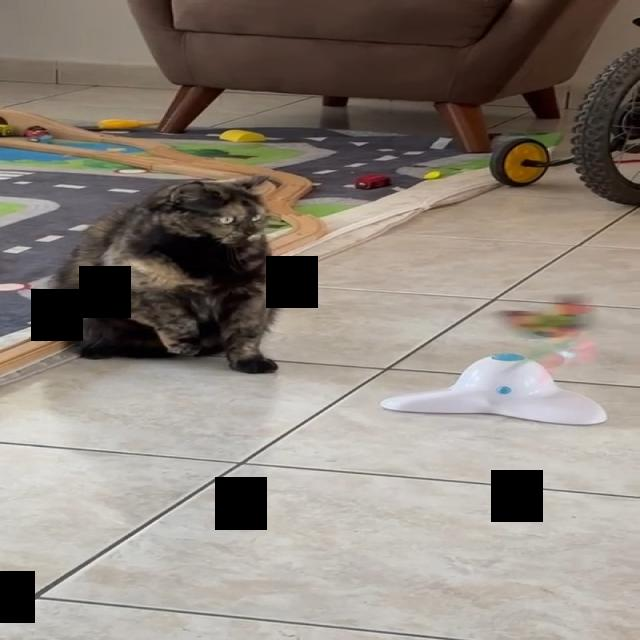authorized: (42, 173, 282, 374)
